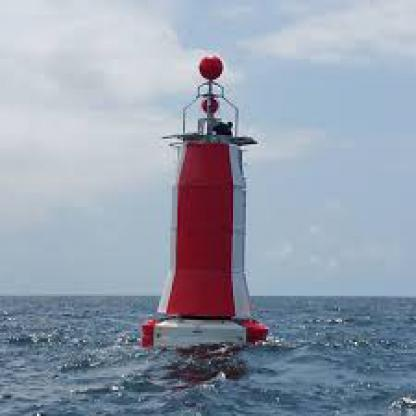buoy: (135, 48, 275, 357)
